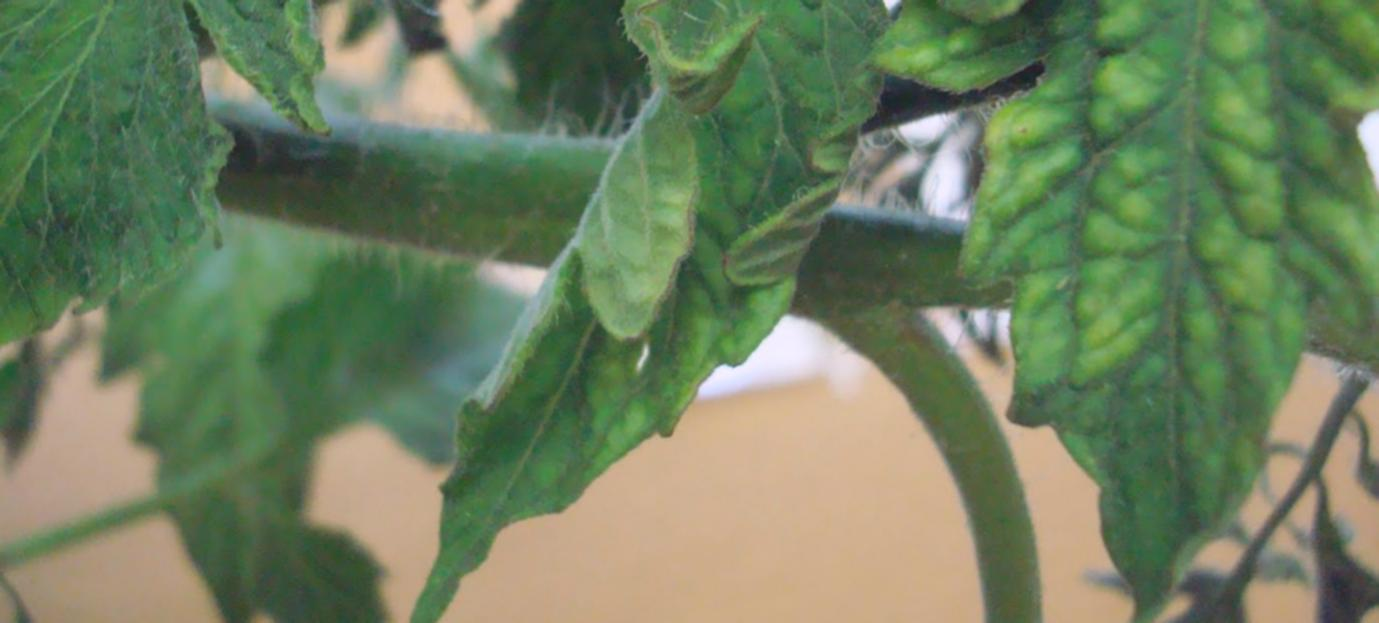Tomato leaf mosaic virus: (405, 0, 1064, 623), (908, 0, 1379, 600), (0, 0, 337, 469)
